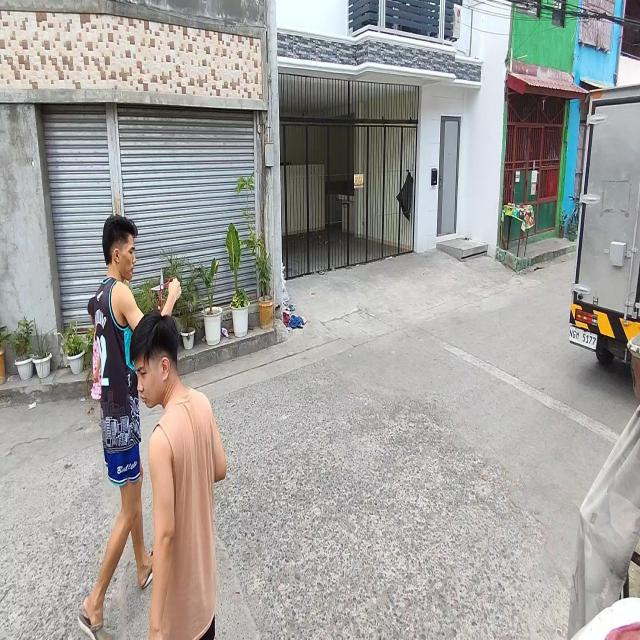scissor: (151, 268, 174, 310)
